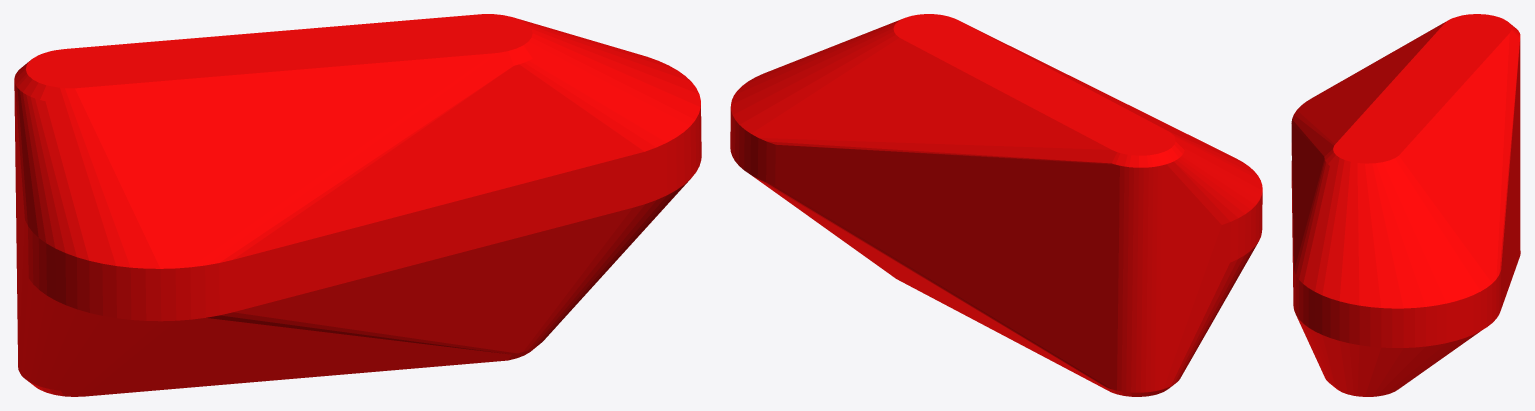
File: col_middle_phalanx.glb
The picture shows the model from 3 angles, left to right: view 1: azimuth 30°, elevation 25°; view 2: azimuth 150°, elevation 25°; view 3: azimuth 270°, elevation 25°; orthographic projection. The views are drawn at different scales.
Visible parts, largest first — view 1: col_middle_phalanx; view 2: col_middle_phalanx; view 3: col_middle_phalanx.
Part boxes in pixels (box(x1,y1,x2,y2)): col_middle_phalanx: box(14, 14, 701, 396); col_middle_phalanx: box(730, 14, 1262, 396); col_middle_phalanx: box(1291, 14, 1520, 396).
Size of the model in its own units: 0.064 by 0.0301 by 0.0264.
